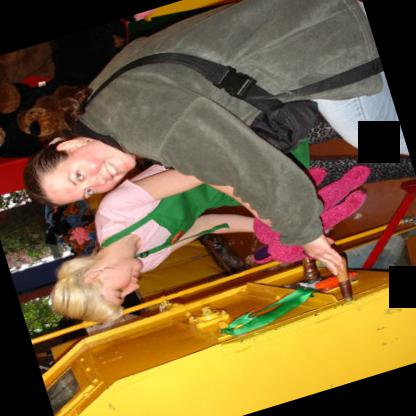handbag: (79, 52, 282, 118), (247, 98, 322, 152)
